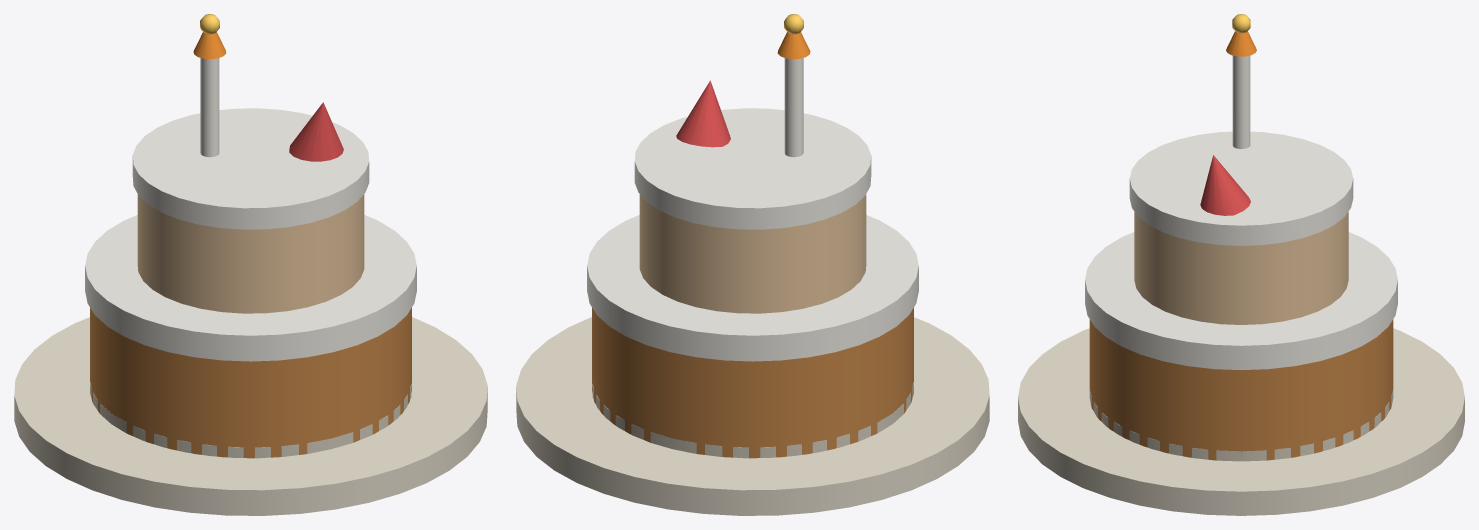
Rendered from torta.glb.
3 views of the same model, side by side, from view 1: azimuth 30°, elevation 25°; view 2: azimuth 150°, elevation 25°; view 3: azimuth 270°, elevation 25° (orthographic). The views are drawn at different scales.
Bounding box in the file's own units: 0.2 × 0.1915 × 0.2.
